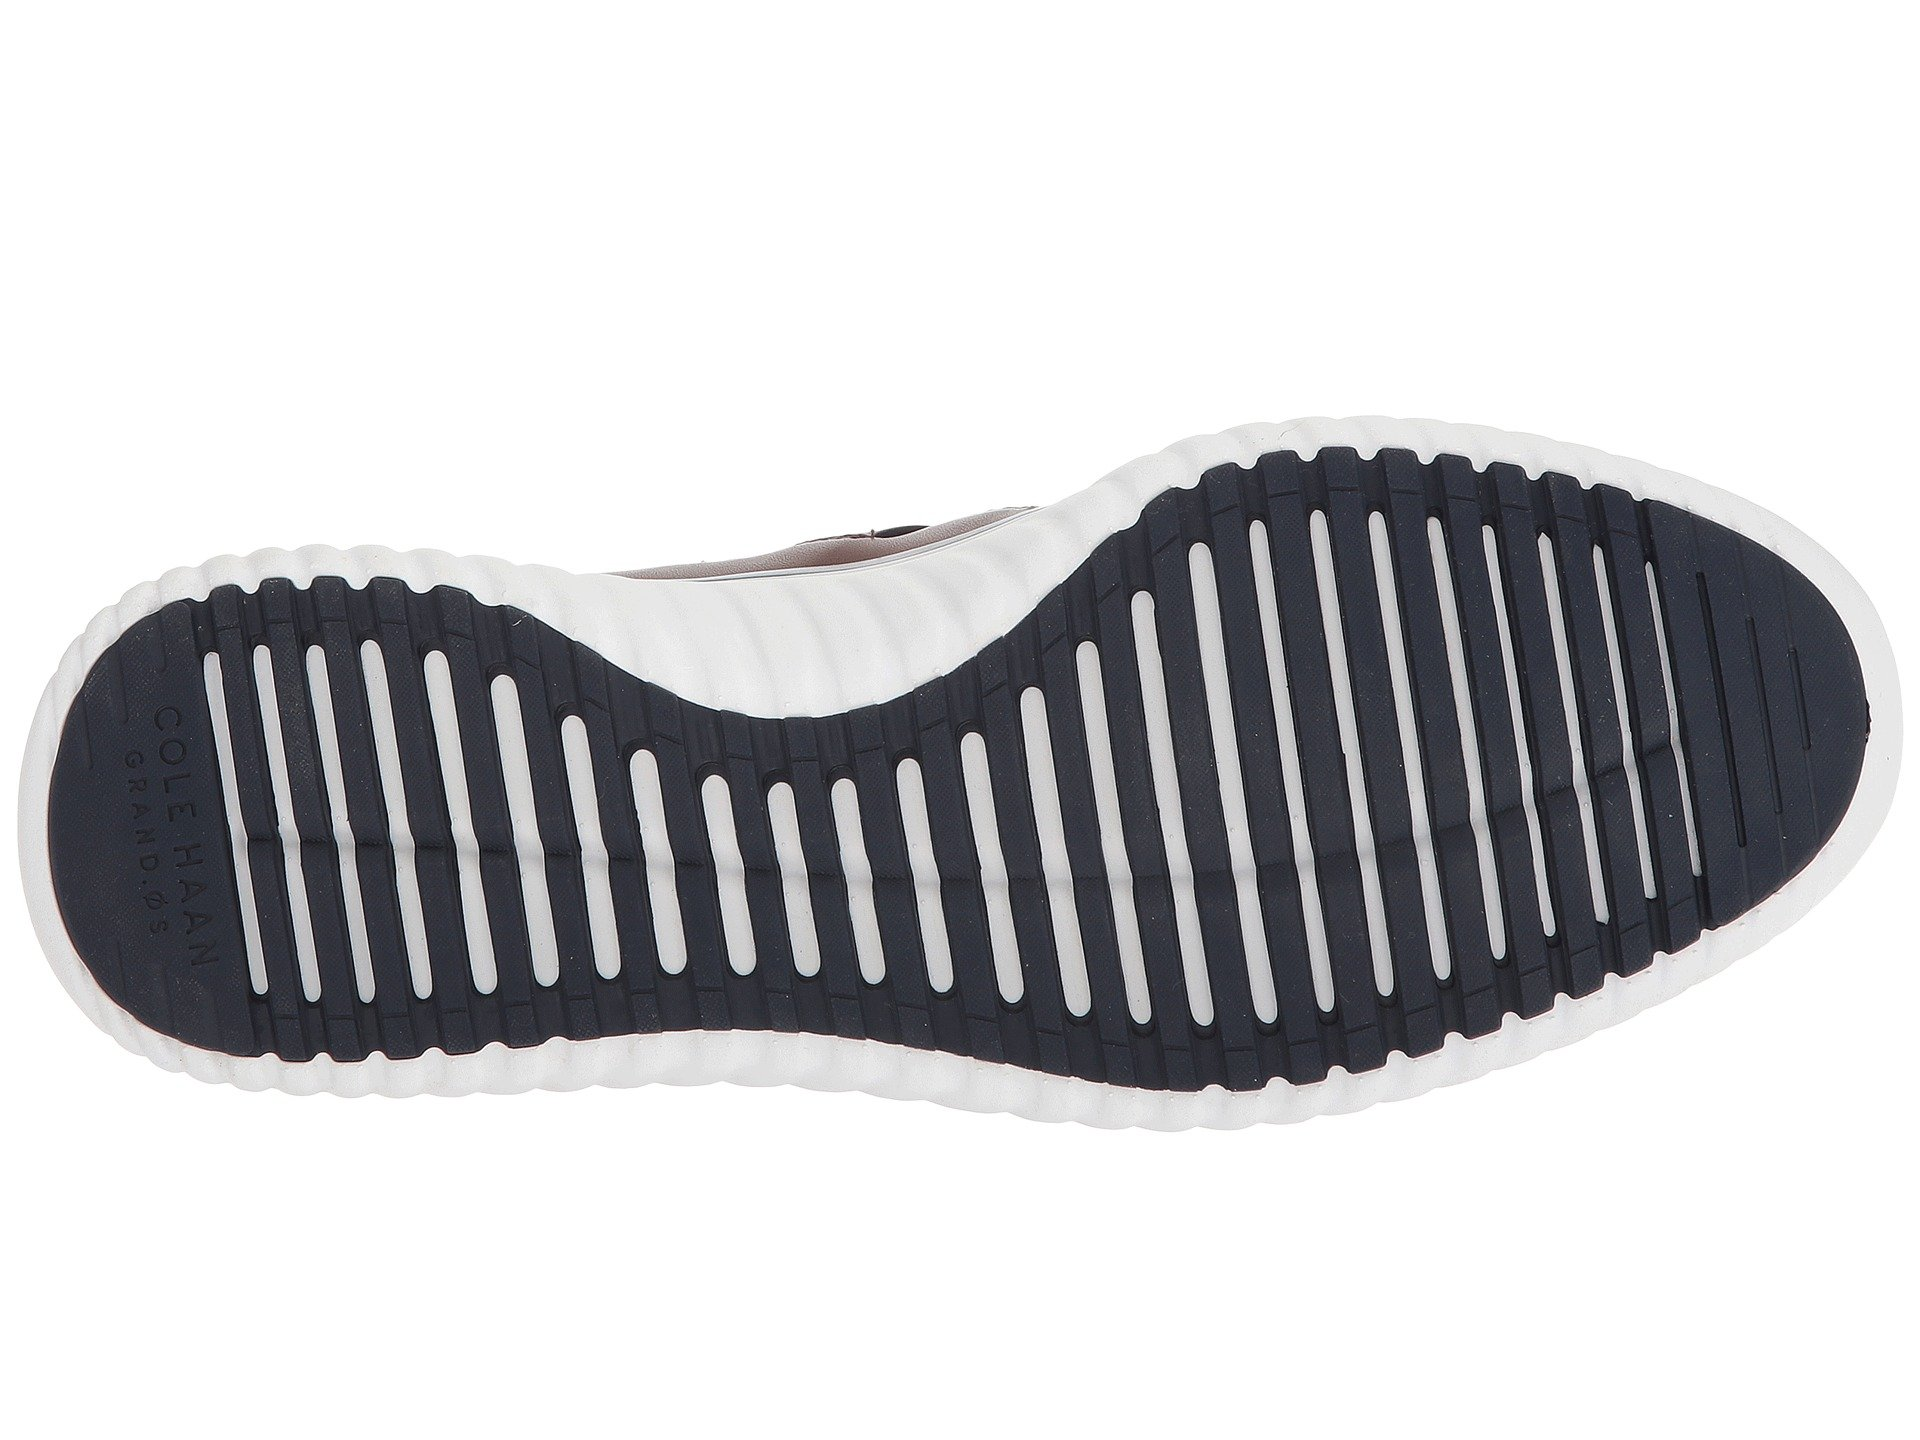line: (1164, 581, 1559, 970), (221, 694, 541, 998), (670, 784, 862, 971)
